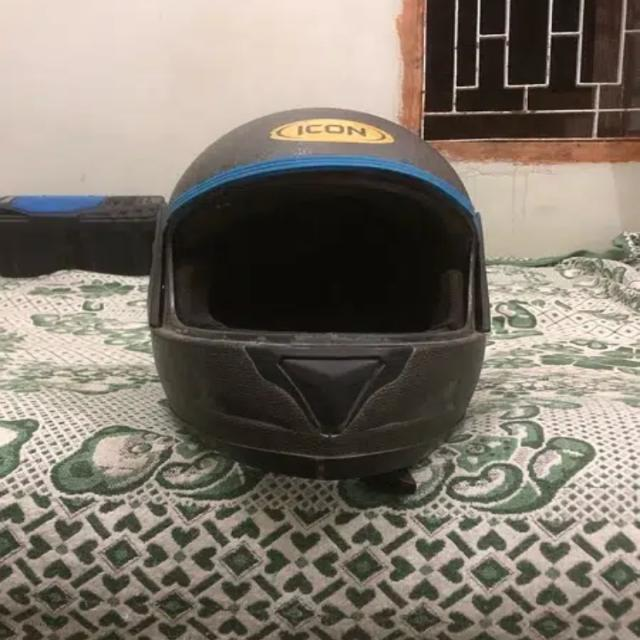Helmet: (171, 88, 512, 505)
